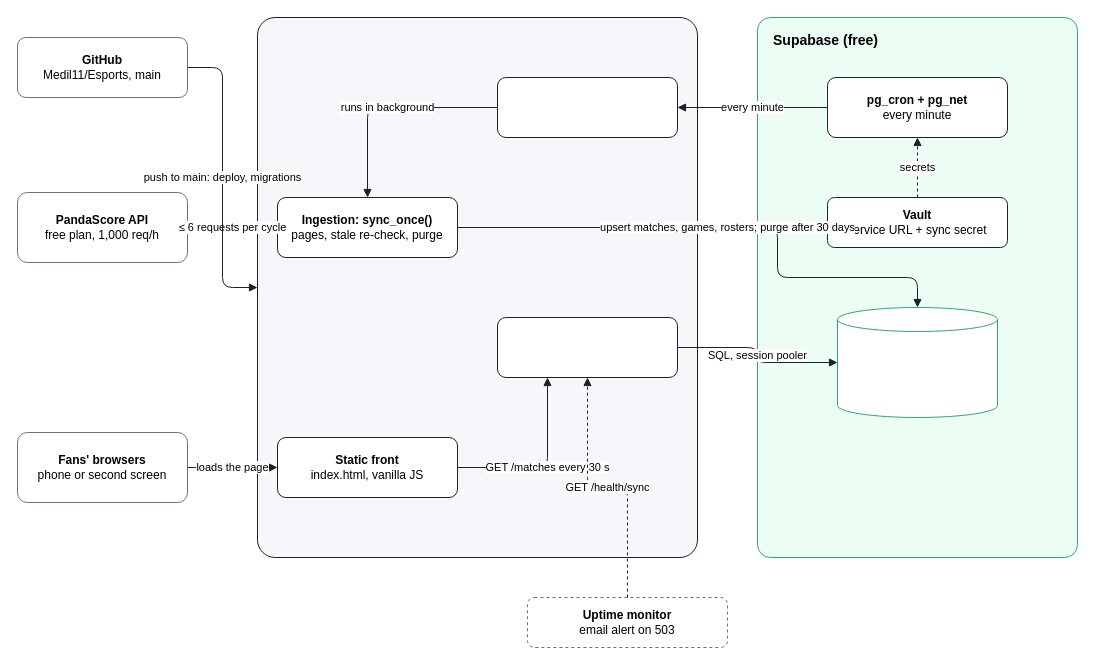
Some shapes in this 1095 by 665 pixel diagram are drawn without their labels. The box of each missing label's shape, as (x1, y1, x2, y2) in pixels:
FastAPI REST API /matches, /health/sync: (496, 316, 678, 378)
POST /internal/sync secret header, no overlap: (496, 76, 678, 138)
PostgreSQL teams, players, matches, games: (836, 306, 998, 418)
Render: one free web service: (256, 16, 698, 558)
